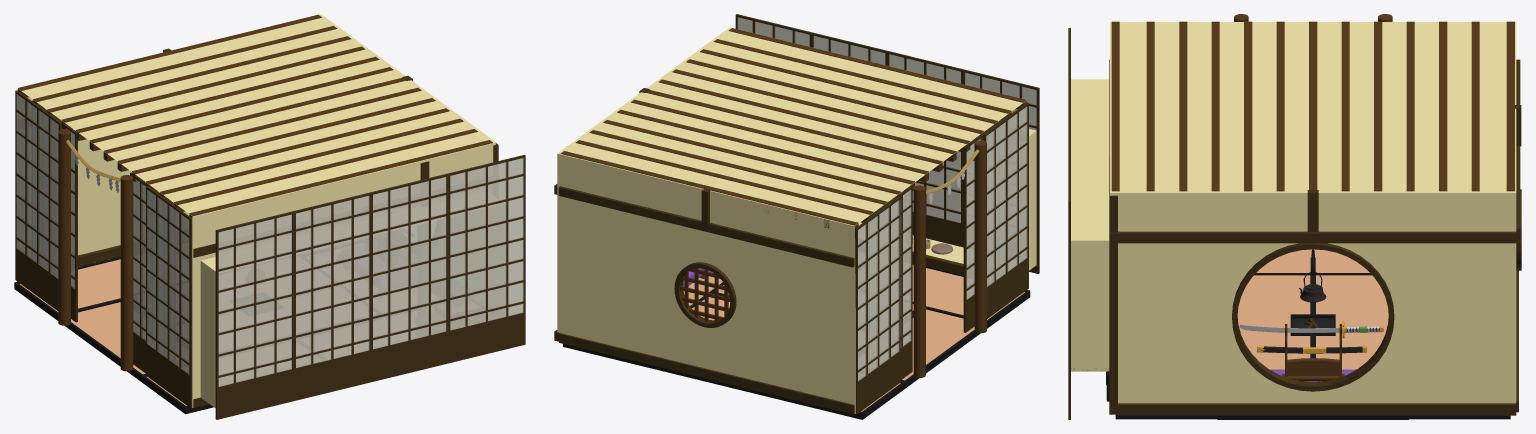
File: japanese_home_room..glb
3 renders of one model, left to right at view 1: azimuth 30°, elevation 25°; view 2: azimuth 150°, elevation 25°; view 3: azimuth 270°, elevation 25°, orthographic. The views are drawn at different scales.
Parts seen in each view (by area): view 1: polySurface39, Screen4, Screen3, Screen2, Screen1, pCube12, Screen7, Screen, polySurface190, Frame, Frame3, Frame6 (+29 smaller); view 2: polySurface39, polySurface190, Screen, Screen7, Frame5, wood_beam_upper3, wood_beam_upper1, Frame1, pCylinder2, pCylinder1, Screen1, pCube12 (+30 smaller); view 3: polySurface39, polySurface190, pCube12, wood_beam_upper, wood_beam_lower, pCylinder4, pCube66, wood_beam_upper7, wood_beam_upper19, wood_beam_upper20, wood_beam_upper21, wood_beam_upper22 (+14 smaller).
Boxes of the visible parts, box(x1,y1,x2,y2) form: polySurface39: box(17, 14, 496, 255); Screen4: box(450, 158, 523, 330); Screen3: box(373, 177, 446, 349); Screen2: box(218, 214, 291, 386); Screen1: box(296, 196, 369, 367); pCube12: box(192, 143, 495, 407); Screen7: box(147, 189, 189, 374); Screen: box(16, 94, 58, 278); polySurface190: box(14, 256, 213, 414); Frame: box(215, 211, 293, 387); Frame3: box(447, 155, 525, 331); Frame6: box(370, 173, 448, 349); polySurface39: box(557, 27, 1026, 413); polySurface190: box(563, 263, 1030, 419); Screen: box(858, 200, 899, 381); Screen7: box(986, 106, 1027, 286); Frame5: box(855, 196, 900, 382); wood_beam_upper3: box(558, 186, 854, 267); wood_beam_upper1: box(559, 333, 854, 414); Frame1: box(983, 102, 1028, 281); pCylinder2: box(913, 185, 925, 377); pCylinder1: box(974, 140, 986, 333); Screen1: box(889, 54, 960, 223); pCube12: box(858, 100, 1036, 270); polySurface39: box(1110, 22, 1516, 403); polySurface190: box(1115, 249, 1510, 419); pCube12: box(1071, 79, 1109, 371); wood_beam_upper: box(1110, 231, 1516, 243); wood_beam_lower: box(1118, 403, 1516, 415); pCylinder4: box(1232, 243, 1394, 391); pCube66: box(1240, 321, 1383, 381); wood_beam_upper7: box(1109, 194, 1117, 414); wood_beam_upper19: box(1276, 21, 1284, 191); wood_beam_upper20: box(1341, 21, 1349, 191); wood_beam_upper21: box(1244, 21, 1252, 191); wood_beam_upper22: box(1211, 21, 1219, 191).
Size of the model in its own units: 9.98 by 5.75 by 10.31.
